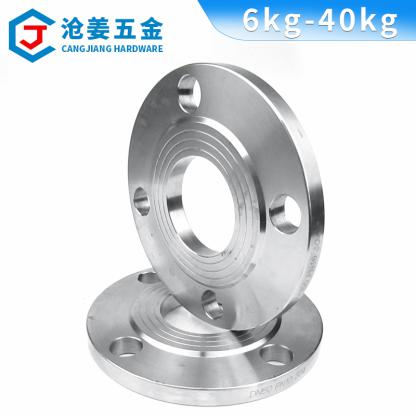FOD: (120, 60, 325, 334), (82, 266, 330, 414)
